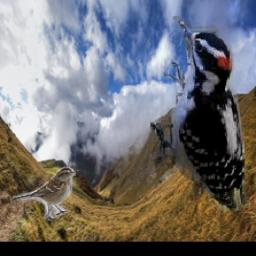Sparrow: (11, 165, 76, 222)
Woodpecker: (150, 16, 245, 211)
